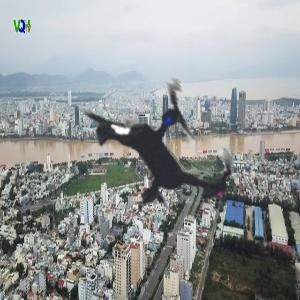drone: (39, 22, 291, 274)
